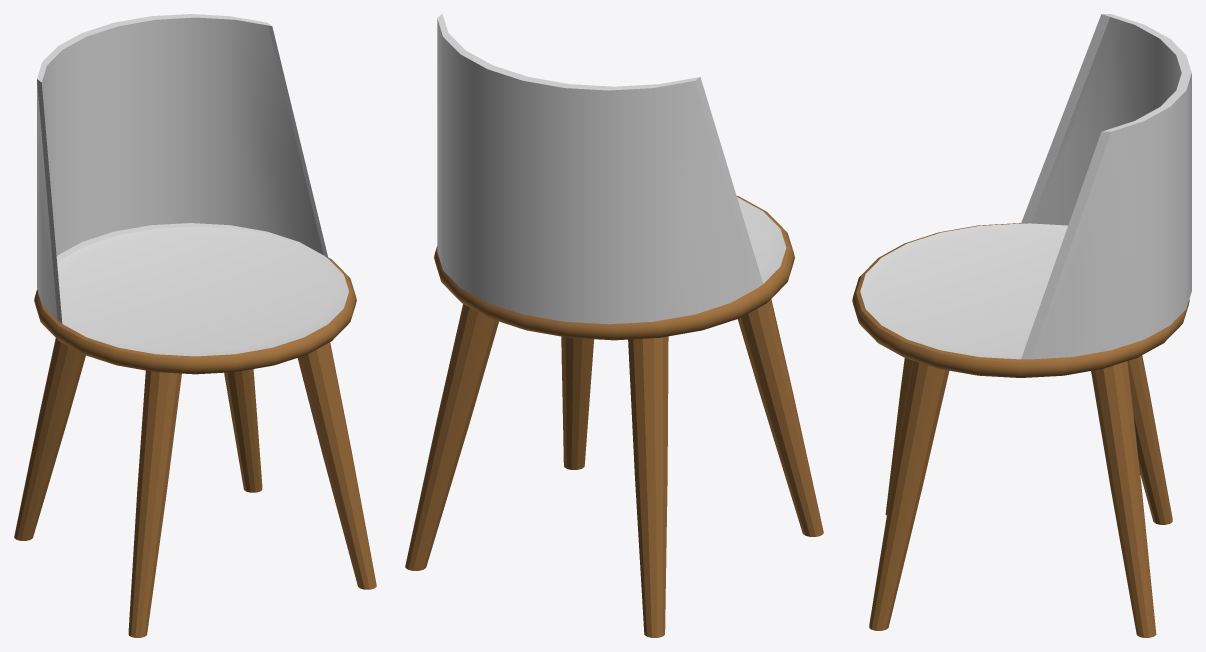
File: cafechair.glb
3 views of the same model, side by side, from view 1: azimuth 30°, elevation 25°; view 2: azimuth 150°, elevation 25°; view 3: azimuth 270°, elevation 25° (orthographic). The views are drawn at different scales.
Parts seen in each view (by area): view 1: Torus, Cylinder.001; view 2: Torus, Cylinder.001; view 3: Torus, Cylinder.001.
Boxes of the visible parts, bbox=[...] form: Torus: bbox=[34, 14, 356, 374]; Cylinder.001: bbox=[14, 338, 376, 637]; Torus: bbox=[434, 14, 794, 340]; Cylinder.001: bbox=[405, 299, 823, 637]; Torus: bbox=[852, 14, 1191, 377]; Cylinder.001: bbox=[869, 355, 1172, 637].
Size of the model in its own units: 0.84 by 1.38 by 0.845.
